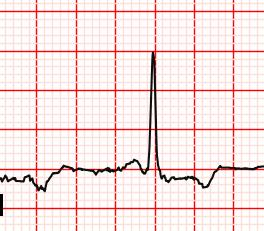T inversion: (181, 159, 228, 192)
